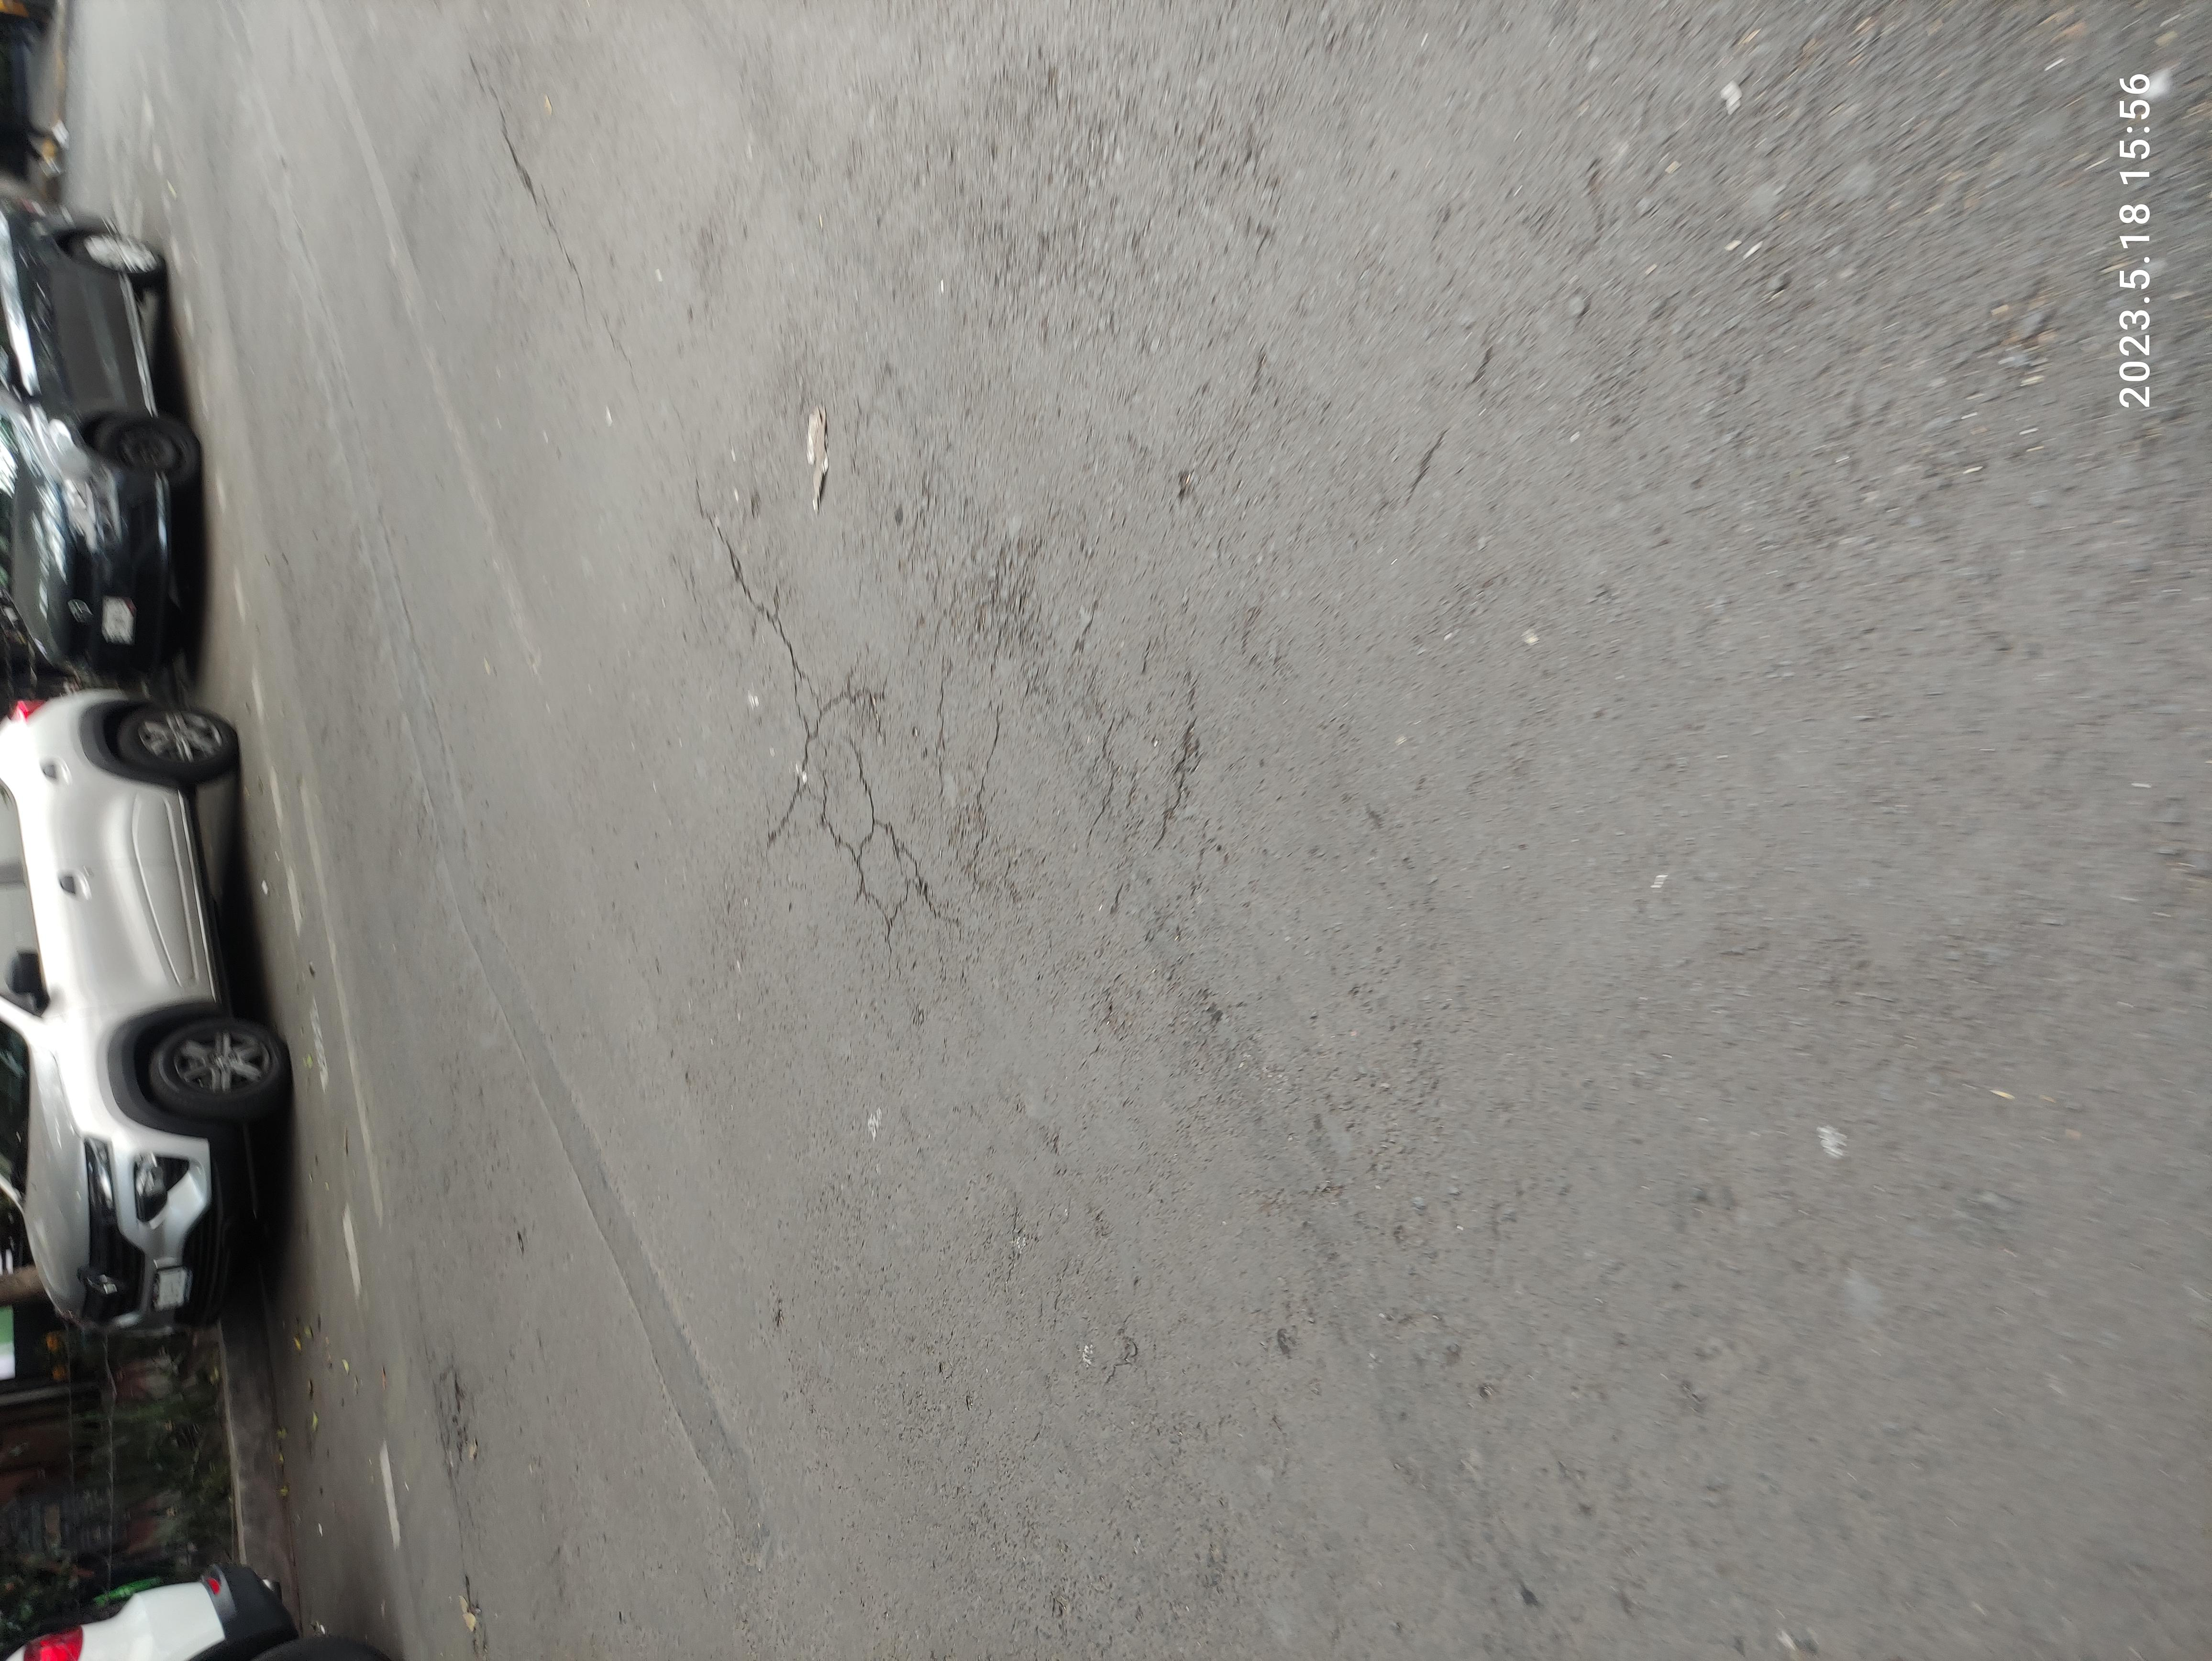crack: (943, 481, 1621, 699)
